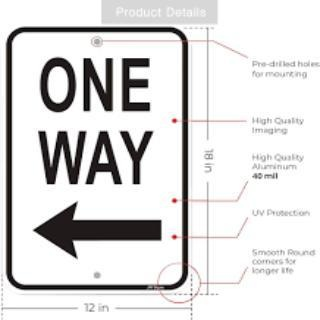sign_oneway_left: (4, 32, 175, 288)
